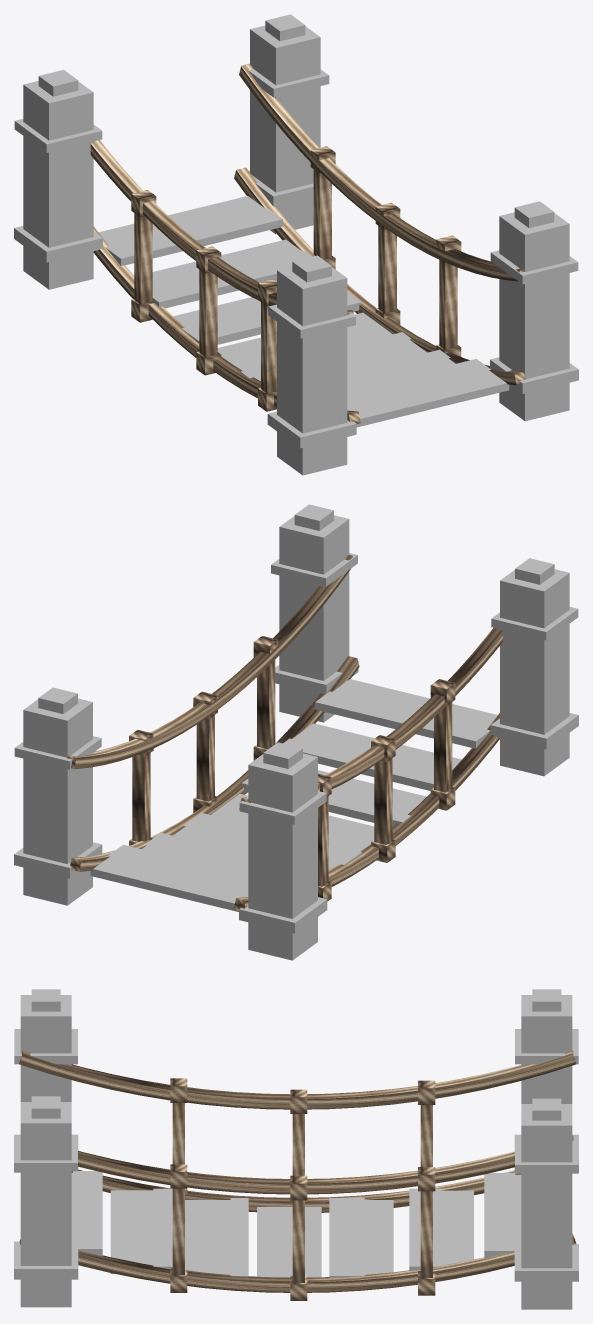
File: bridge.fbx
3 renders of one model, top to bottom at view 1: azimuth 30°, elevation 25°; view 2: azimuth 150°, elevation 25°; view 3: azimuth 270°, elevation 25°, orthographic.
Parts seen in each view (by area): view 1: pilars, rope, wood; view 2: pilars, rope, wood; view 3: pilars, rope, wood.
Boxes of the visible parts, <box> form: pilars: <box>14,14,578,475</box>; rope: <box>90,64,525,423</box>; wood: <box>98,196,509,427</box>; pilars: <box>14,504,578,960</box>; rope: <box>66,554,502,910</box>; wood: <box>90,679,497,911</box>; pilars: <box>14,989,578,1309</box>; rope: <box>19,1050,576,1300</box>; wood: <box>71,1171,521,1278</box>.
Bounding box in the file's own units: 8.28 × 5.76 × 14.49.
